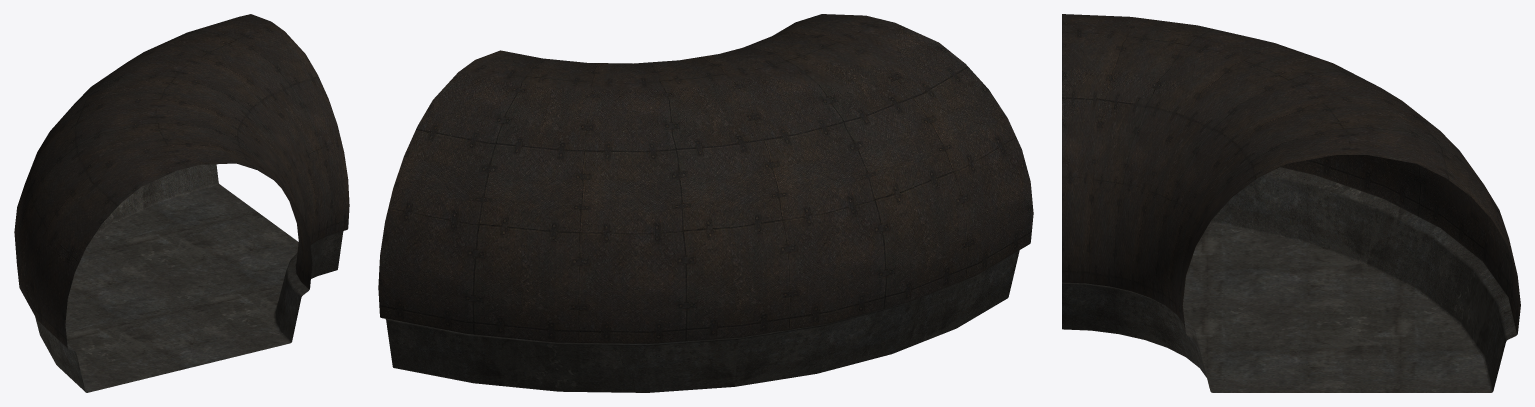
Rendered from tunnel_ancle.dae.
The picture shows the model from 3 angles, left to right: view 1: azimuth 30°, elevation 25°; view 2: azimuth 150°, elevation 25°; view 3: azimuth 270°, elevation 25°; orthographic projection. The views are drawn at different scales.
Visible parts, largest first — view 1: tunnel_ancle; view 2: tunnel_ancle; view 3: tunnel_ancle.
Part boxes in pixels (box(x1,y1,x2,y2)): tunnel_ancle: box(14, 14, 349, 392); tunnel_ancle: box(378, 14, 1033, 392); tunnel_ancle: box(1062, 14, 1520, 392).
Size of the model in its own units: 4.75 by 4.75 by 2.72.
Materials: 2 (2 with a texture image).
